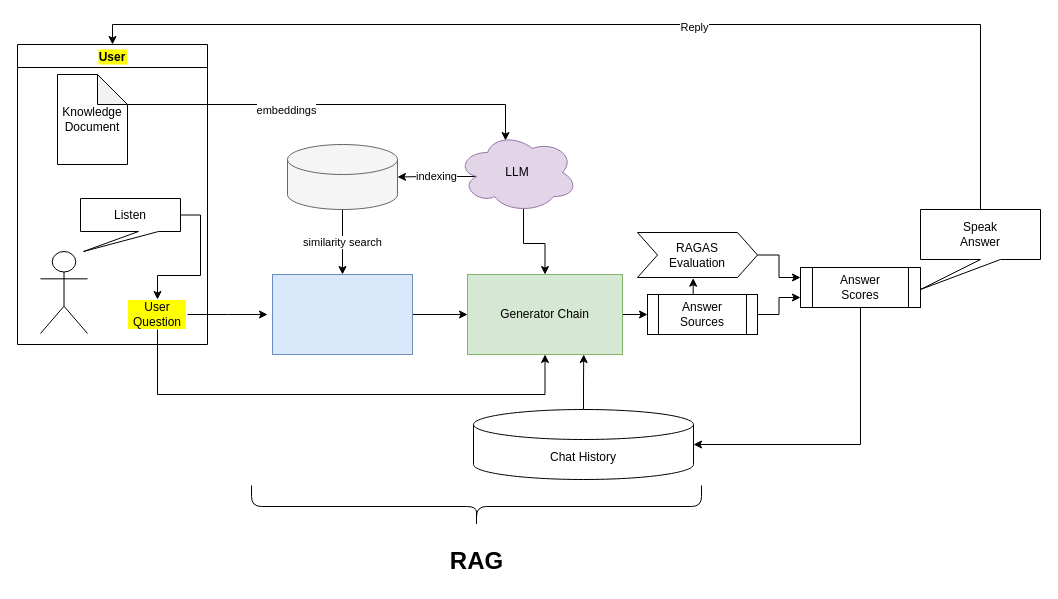
This 1058x599 diagram has some shape labels left out. The centre of each missing label's shape, as x and y in pixels:
"Retrieval Chain (Similarity Search)" belongs at point (342, 314).
"VectorDB" belongs at point (342, 177).
